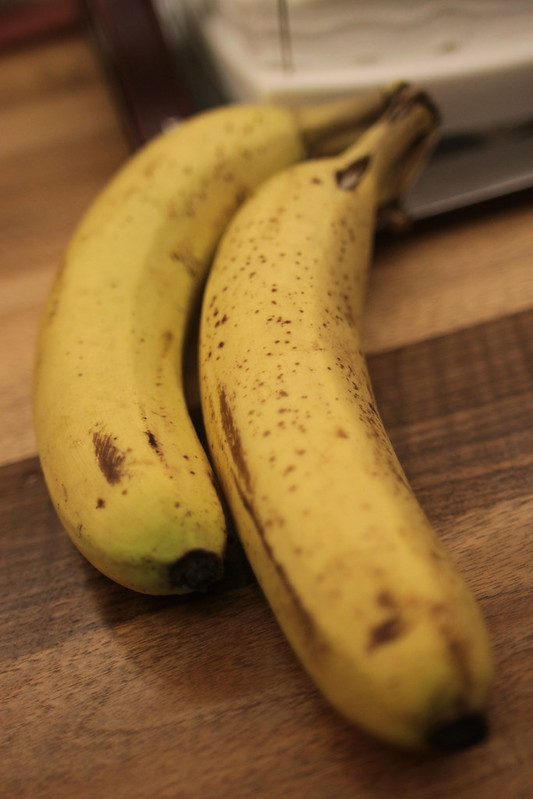banana: (40, 101, 484, 740)
